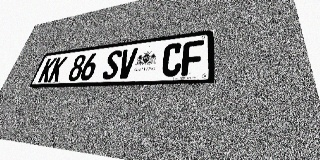6: (79, 52, 100, 81)
8: (67, 54, 88, 81)
C: (161, 42, 183, 77)
F: (181, 40, 204, 76)
K: (47, 56, 68, 82), (37, 58, 57, 83)
S: (101, 50, 123, 80)
V: (116, 48, 138, 79)
